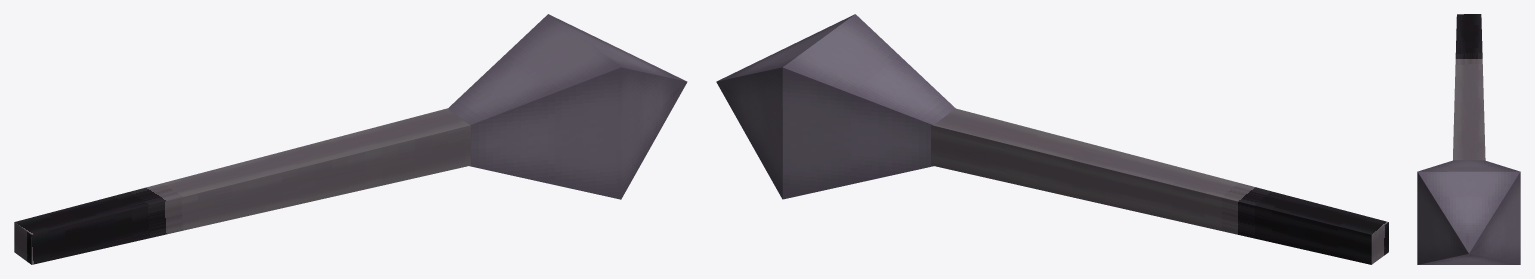
3 views of the same model, side by side, from view 1: azimuth 30°, elevation 25°; view 2: azimuth 150°, elevation 25°; view 3: azimuth 270°, elevation 25° (orthographic). The views are drawn at different scales.
Parts seen in each view (by area): view 1: it7; view 2: it7; view 3: it7.
Part boxes in pixels (bbox=[...]): it7: bbox=[14, 14, 687, 264]; it7: bbox=[716, 14, 1388, 264]; it7: bbox=[1417, 14, 1520, 264].
Size of the model in its own units: 2.18 by 0.4144 by 0.4144.
Materials: 2 (2 with a texture image).
